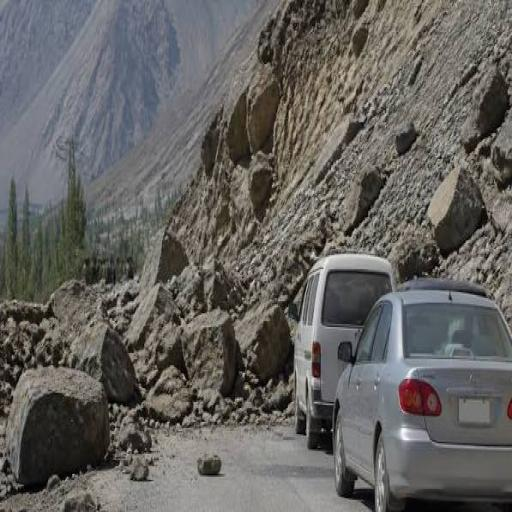Landslide: (35, 250, 290, 397)
Rock: (16, 340, 107, 489), (179, 307, 243, 386), (428, 173, 493, 250), (248, 297, 293, 368), (148, 228, 184, 264)
